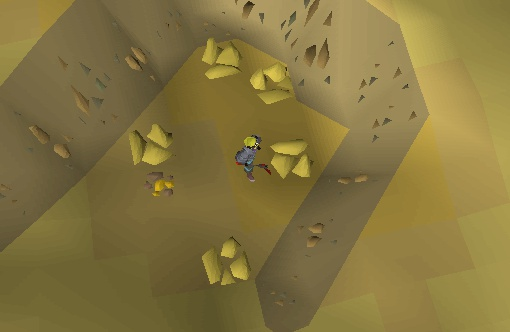gold: (195, 234, 257, 288), (268, 136, 322, 183), (126, 127, 179, 169)
